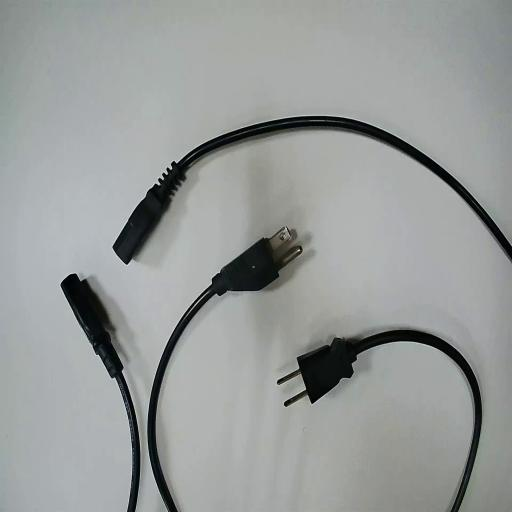wire: (114, 117, 511, 262), (148, 239, 300, 511), (279, 330, 481, 511), (62, 275, 139, 511)
